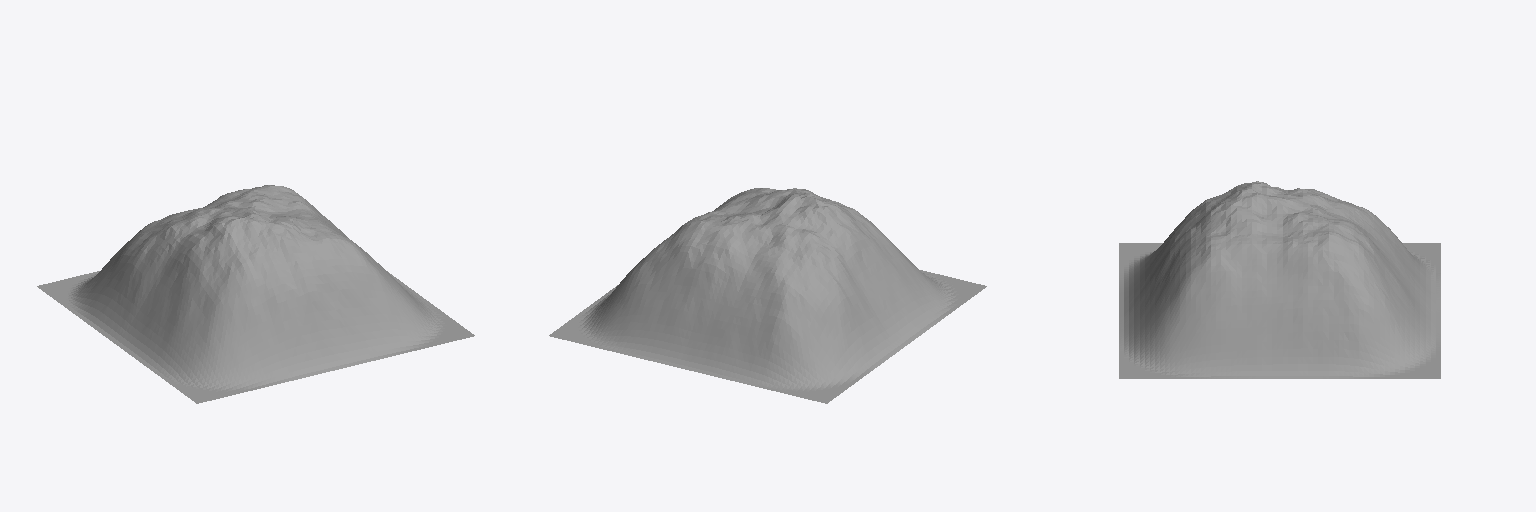
File: island.obj
The picture shows the model from 3 angles: view 1: azimuth 30°, elevation 25°; view 2: azimuth 150°, elevation 25°; view 3: azimuth 270°, elevation 25°; orthographic projection.
Visible parts, largest first — view 1: Landscape.003; view 2: Landscape.003; view 3: Landscape.003.
Part boxes in pixels (x1,y1,x2,y2): Landscape.003: (37, 185, 474, 403); Landscape.003: (549, 188, 986, 403); Landscape.003: (1119, 181, 1440, 378).
Bounding box in the file's own units: 2.72 × 1.03 × 2.72.